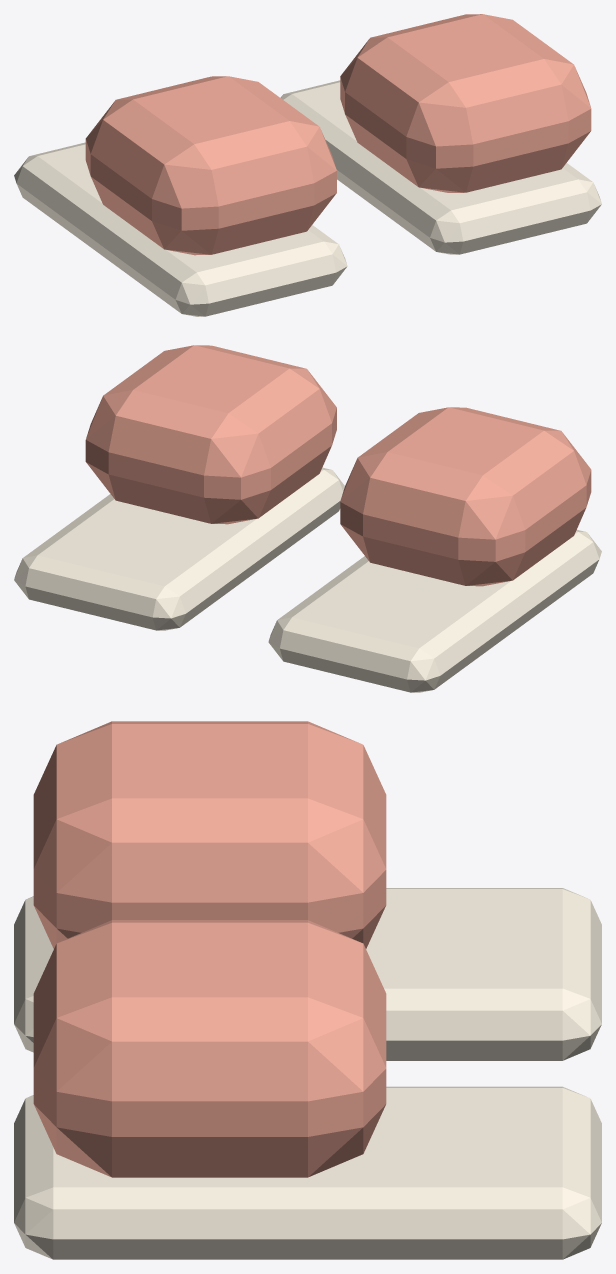
The model's file is cozy-home-interiors-slippers-102bf62b.glb.
3 renders of one model, top to bottom at view 1: azimuth 30°, elevation 25°; view 2: azimuth 150°, elevation 25°; view 3: azimuth 270°, elevation 25°, orthographic. The views are drawn at different scales.
Parts seen in each view (by area): view 1: slippers; view 2: slippers; view 3: slippers.
Part boxes in pixels (x1,y1,x2,y2): slippers: (14,14,601,316); slippers: (14,345,601,692); slippers: (14,721,601,1259).
Bounding box in the file's own units: 0.41 × 0.14 × 0.3.
